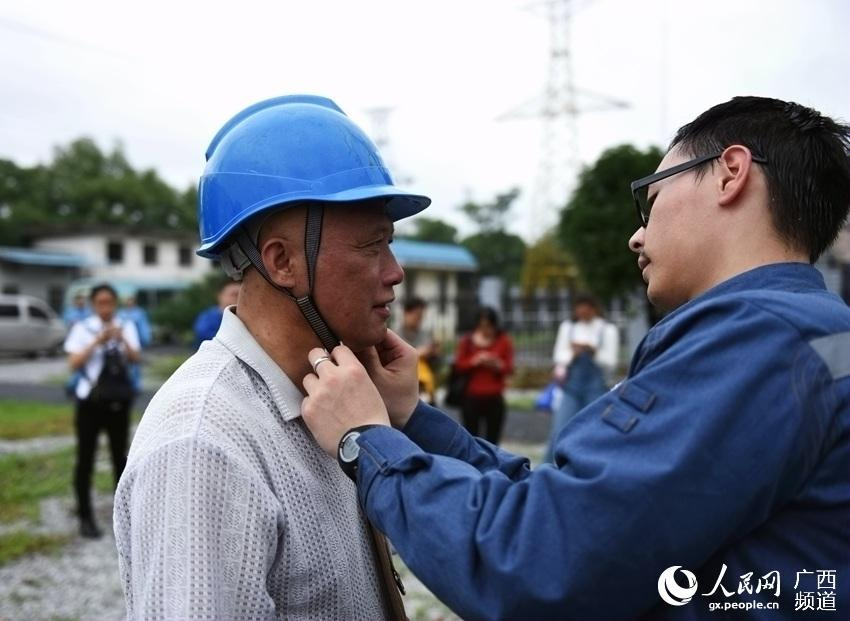helmet: (194, 95, 428, 256)
